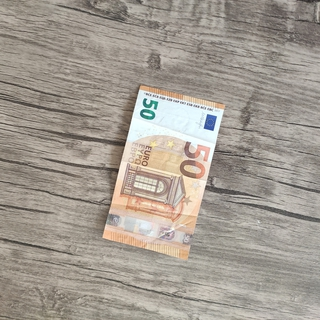50EUROFront: (100, 83, 226, 261)
